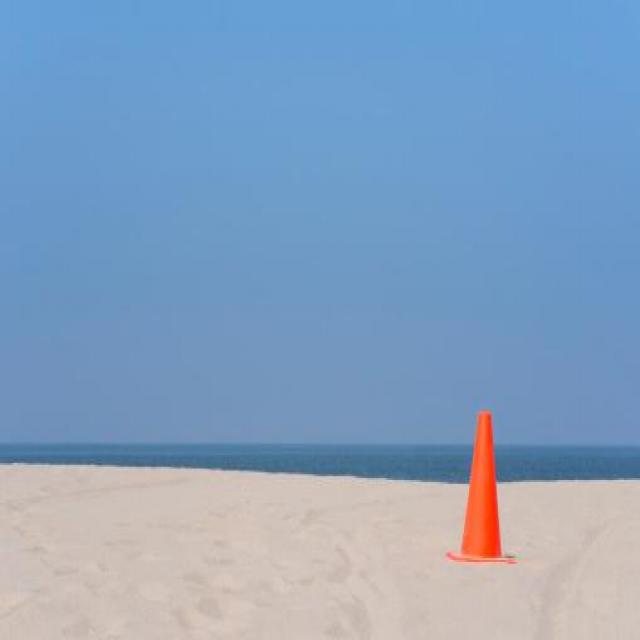Cone: (445, 408, 517, 570)
